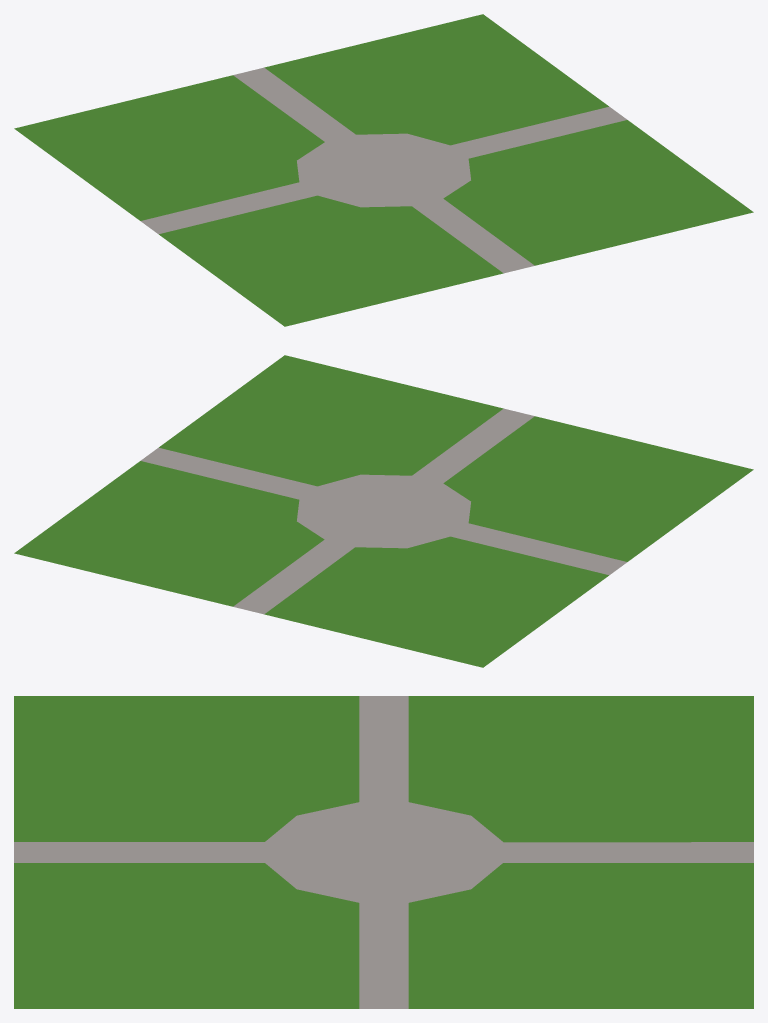
File: tiles-nb_tile-park-nb.fbx
The picture shows the model from 3 angles, top to bottom: view 1: azimuth 30°, elevation 25°; view 2: azimuth 150°, elevation 25°; view 3: azimuth 270°, elevation 25°; orthographic projection. The views are drawn at different scales.
Visible parts, largest first — view 1: tiles_nb_tile_park_nb; view 2: tiles_nb_tile_park_nb; view 3: tiles_nb_tile_park_nb.
Part boxes in pixels (<box>): tiles_nb_tile_park_nb: <box>14,14,753,326</box>; tiles_nb_tile_park_nb: <box>14,355,753,667</box>; tiles_nb_tile_park_nb: <box>14,696,753,1008</box>.
Bounding box in the file's own units: 200 × 1.99e-05 × 200.
